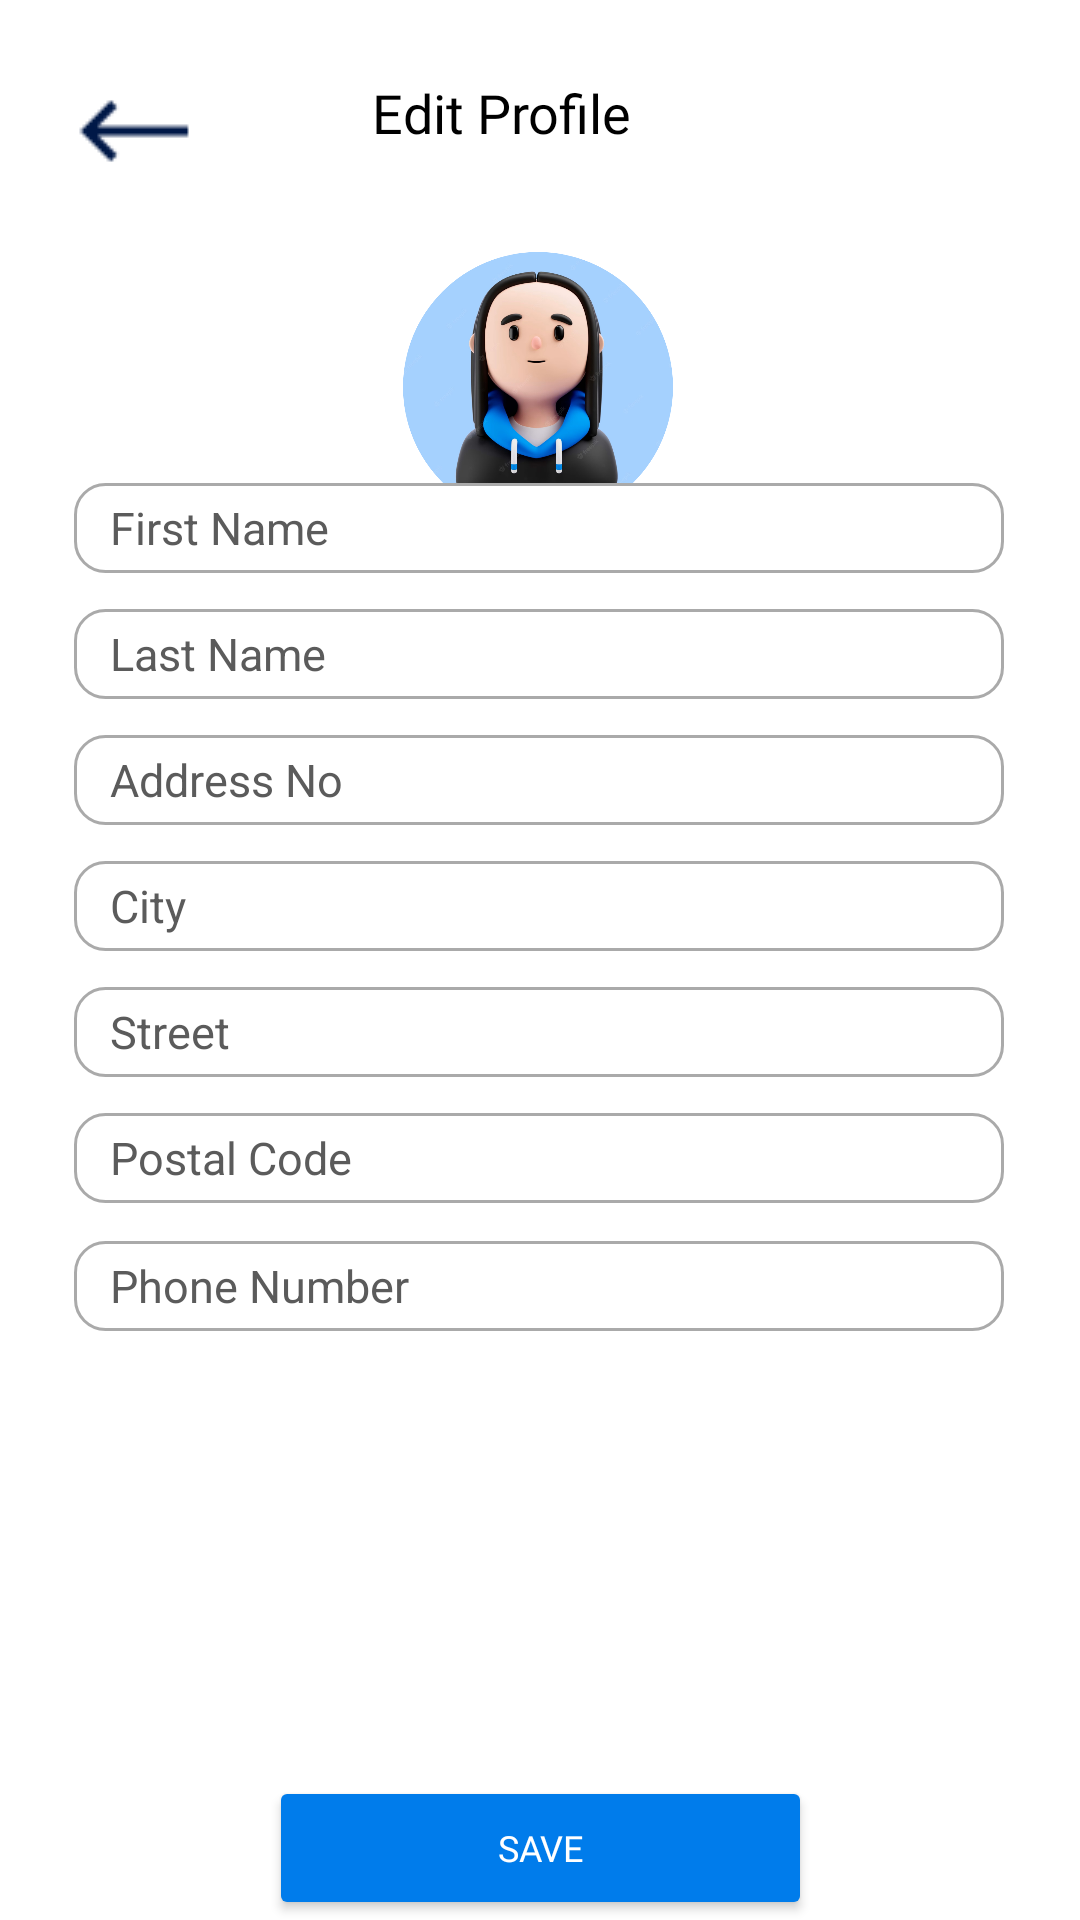

Where to tap for icons on this 1080×1920 app screen, as (x=x, y=y):
arrow back: (x=134, y=131)
